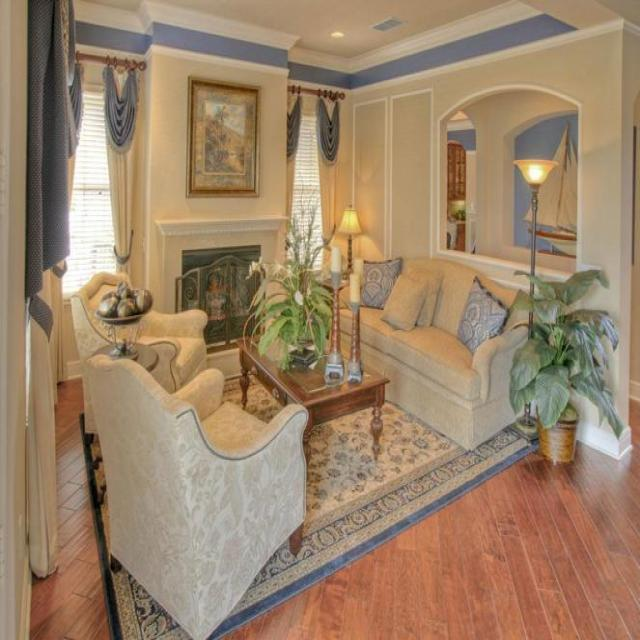curtains: (23, 0, 82, 579), (100, 59, 139, 274)
lamps: (337, 204, 362, 275)
pillows: (456, 275, 508, 354)
plants: (504, 265, 624, 464), (241, 198, 338, 372)
pots: (535, 405, 578, 464)
rugs: (78, 366, 540, 639)
sofa: (334, 255, 541, 451)
table-lamp: (511, 156, 558, 438)
windows: (60, 84, 118, 300)
